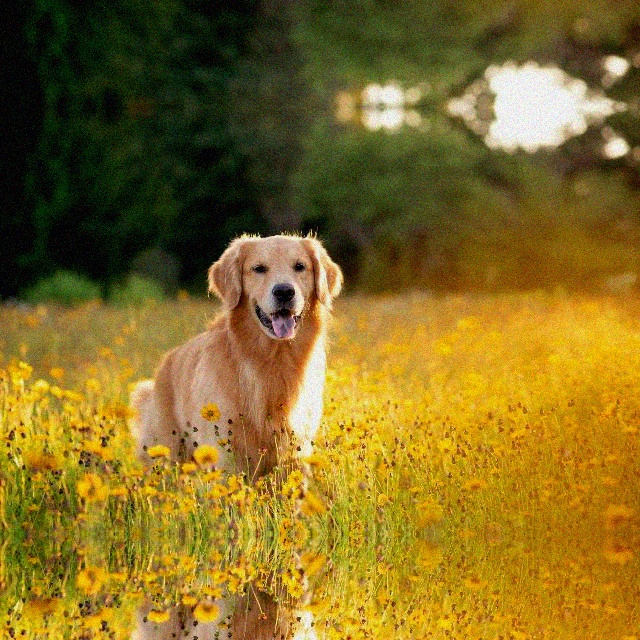dog: (118, 216, 346, 472), (119, 594, 346, 640)
